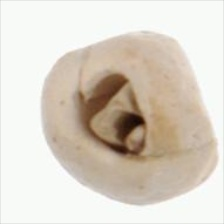L3: (74, 72, 148, 160)
L4: (41, 32, 219, 206)
